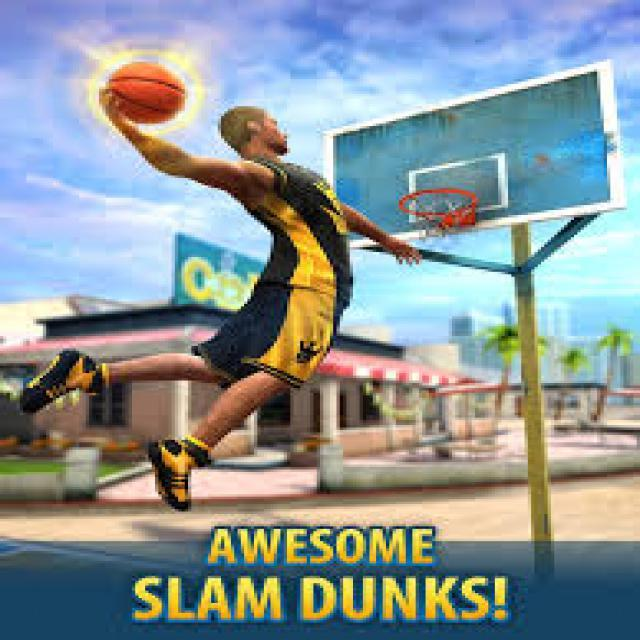basketball: (105, 62, 188, 124)
rim: (399, 188, 482, 218)
